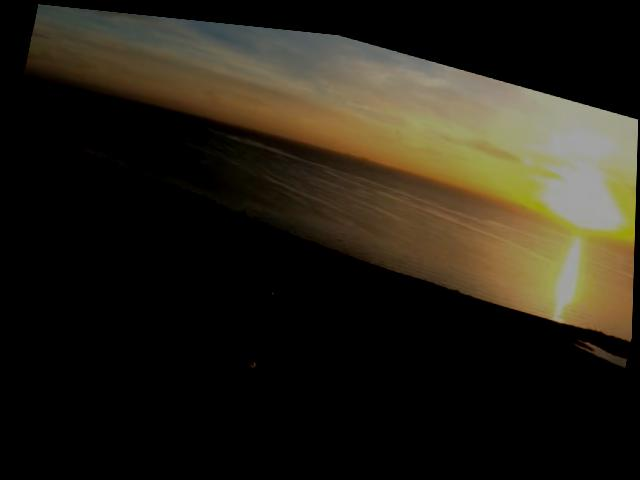uav: (231, 343, 283, 375)
